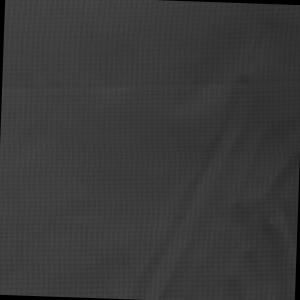Wrinkle: (128, 1, 300, 300), (2, 50, 300, 115)
